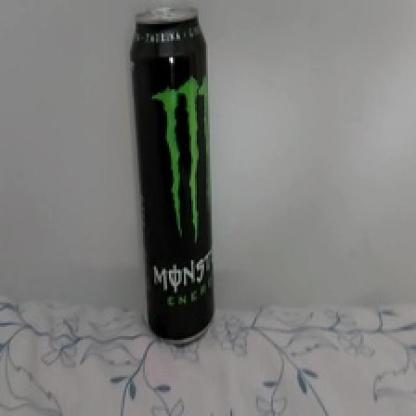Can: (127, 7, 216, 350)
